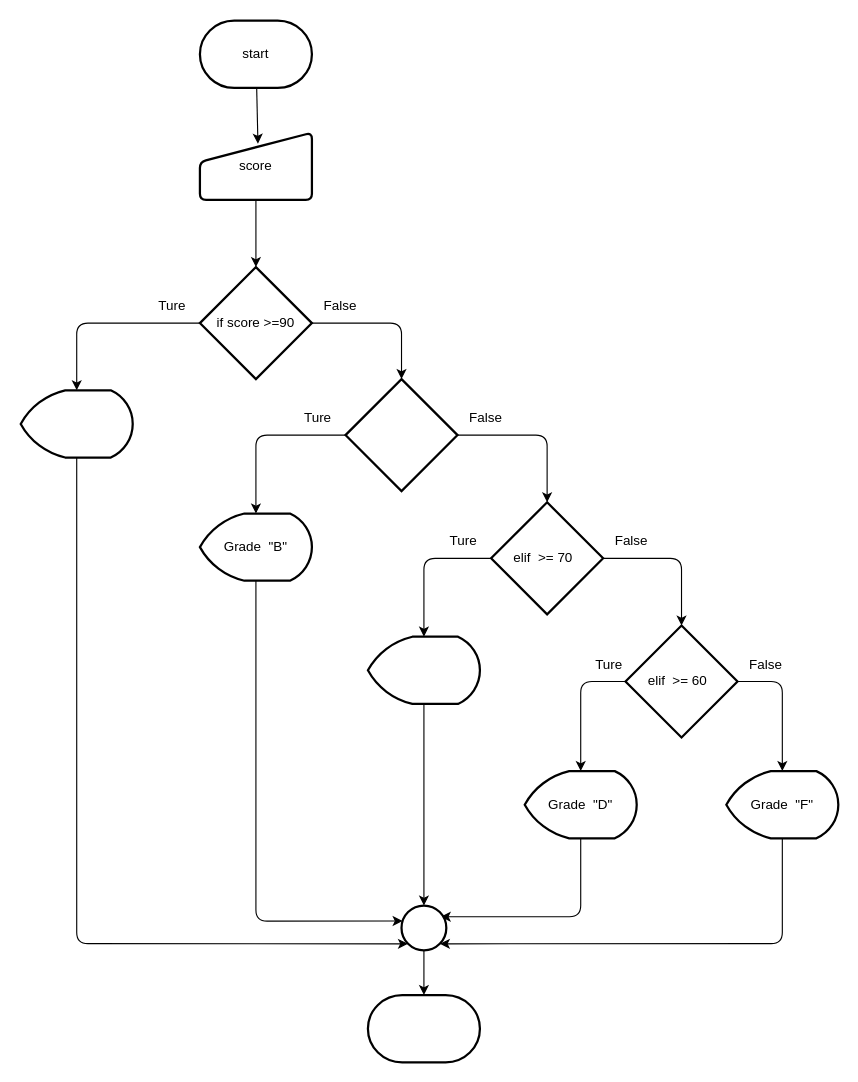
This 858x1082 diagram has some shape labels left out. Here are the shapes that lost their labels. From the top down, the box of each, then its label:
(19, 389, 133, 458): Grade "A"
(344, 377, 458, 492): elif >= 80
(366, 635, 480, 704): Grade "C"
(366, 993, 480, 1063): end
